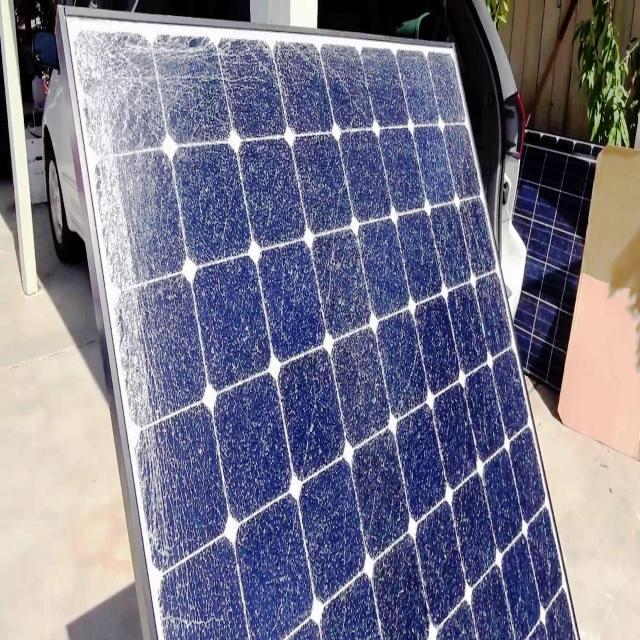faulty: (68, 11, 581, 640)
